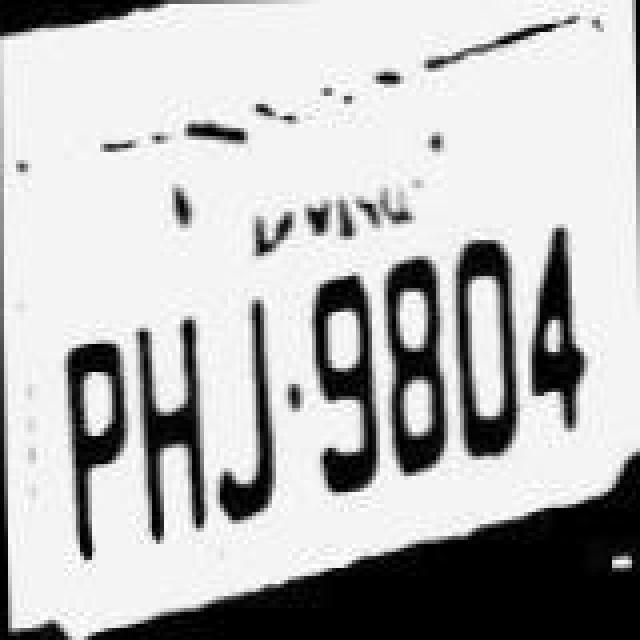4: (516, 184, 592, 448)
8: (372, 236, 448, 504)
9: (304, 250, 384, 518)
H: (130, 282, 206, 538)
J: (198, 270, 274, 534)
O: (448, 202, 524, 466)
P: (50, 302, 134, 570)
